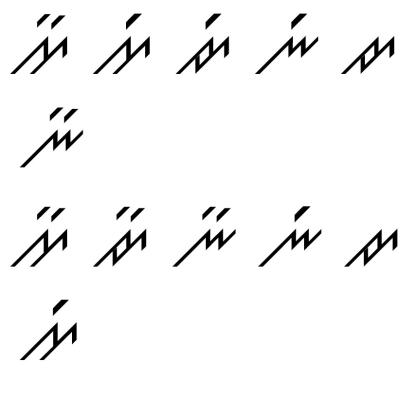ja: (336, 23, 400, 78), (342, 215, 400, 268)
jan: (92, 202, 149, 274)
jang: (171, 11, 234, 77)
nyan: (166, 199, 241, 270), (16, 100, 85, 174)
nyang: (252, 198, 329, 273), (254, 13, 322, 77)
san: (5, 198, 71, 271), (8, 9, 73, 78)
sang: (13, 296, 82, 366), (87, 10, 155, 79)
